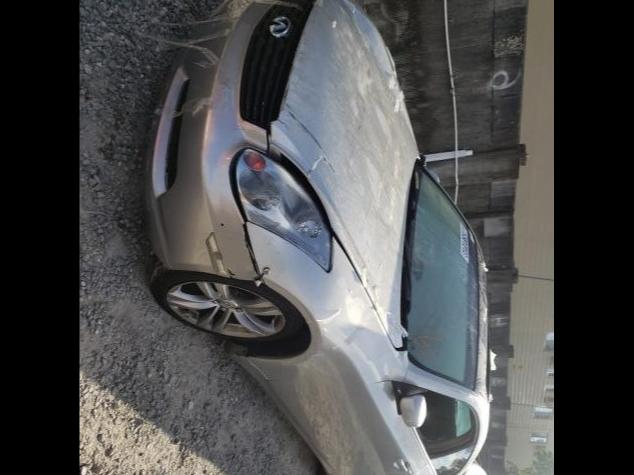Broken part: (260, 0, 372, 300), (234, 216, 270, 286)
Dent: (312, 296, 367, 356)
Flaking: (270, 0, 420, 350), (182, 68, 246, 128)
Missing part: (392, 384, 480, 456)
Paint chip: (210, 212, 228, 238), (217, 266, 236, 278)
Scratch: (280, 98, 335, 170)
